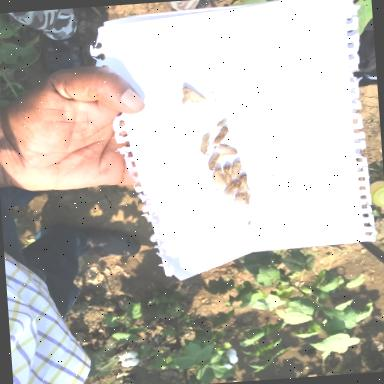abw: (178, 82, 208, 108), (209, 125, 234, 146), (202, 151, 228, 171), (192, 132, 213, 156), (220, 178, 244, 198), (212, 142, 240, 157), (236, 173, 253, 195), (220, 163, 234, 186), (230, 160, 246, 180), (216, 166, 224, 186)
